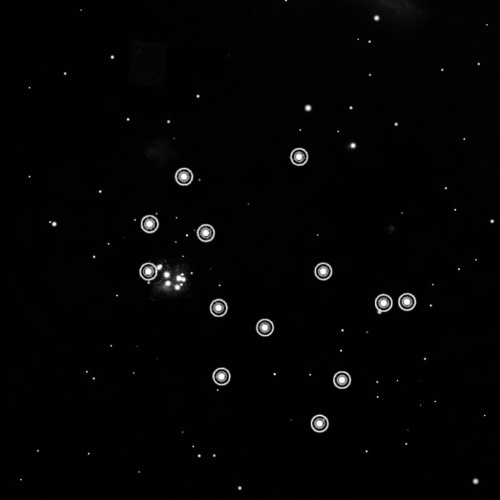gemini: (130, 140, 420, 438)
